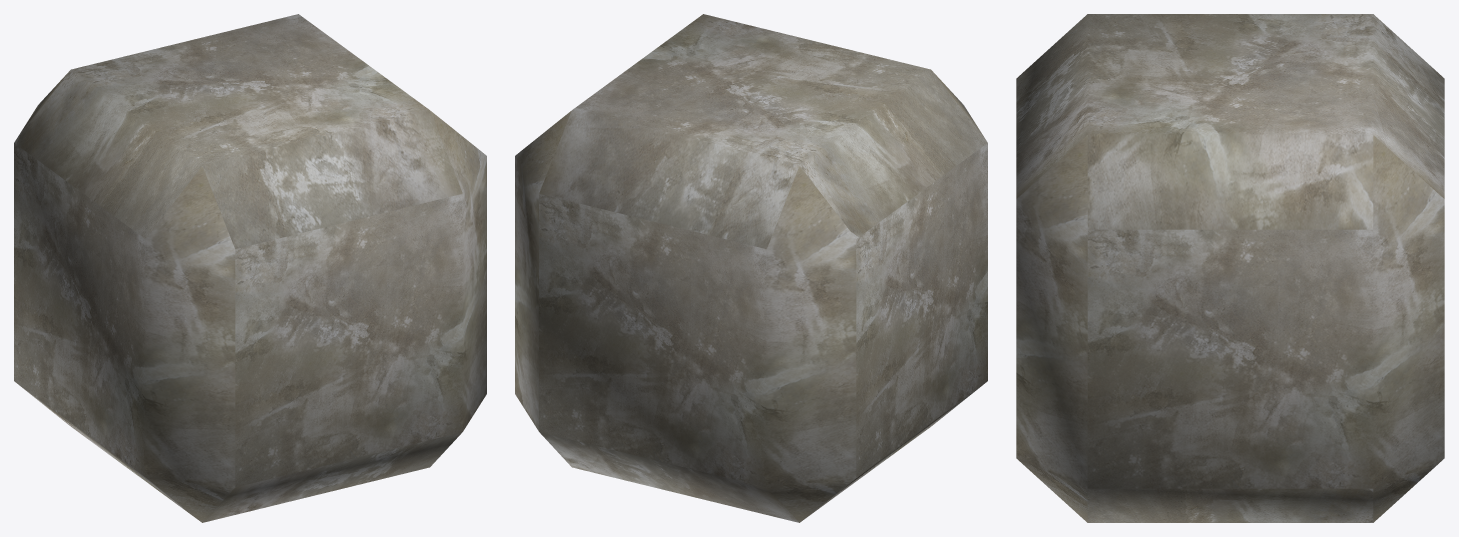
File: chamfer.FBX
3 renders of one model, left to right at view 1: azimuth 30°, elevation 25°; view 2: azimuth 150°, elevation 25°; view 3: azimuth 270°, elevation 25°, orthographic. The views are drawn at different scales.
Visible parts, largest first — view 1: ChamferBox001; view 2: ChamferBox001; view 3: ChamferBox001.
Boxes of the visible parts, x1,y1,x2,y2 form: ChamferBox001: [14, 14, 486, 522]; ChamferBox001: [515, 14, 987, 522]; ChamferBox001: [1016, 14, 1444, 522].
Bounding box in the file's own units: 10000 × 10000 × 10000.
